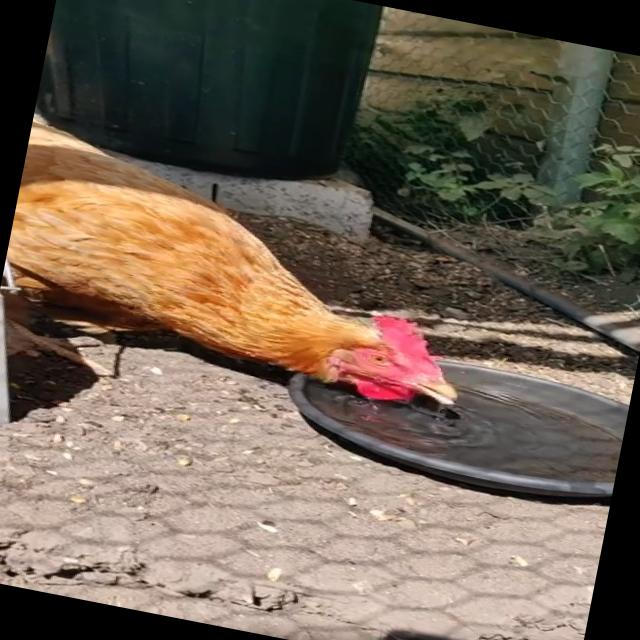drinking: (0, 127, 516, 439)
